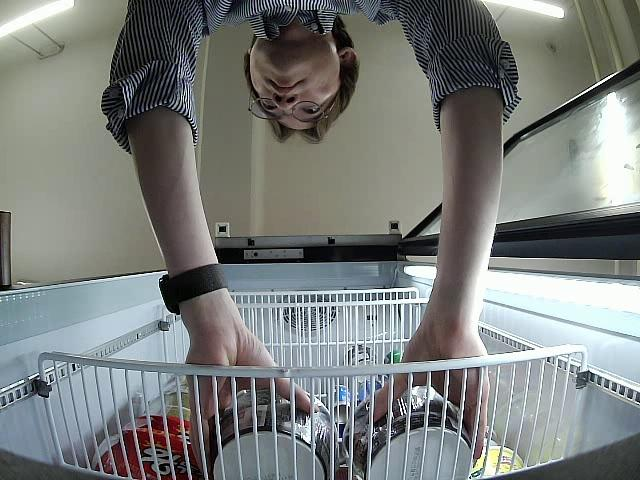00_hand: (183, 342, 317, 476), (367, 332, 490, 463)
07_buldak_L: (209, 381, 335, 480), (342, 389, 472, 480)
